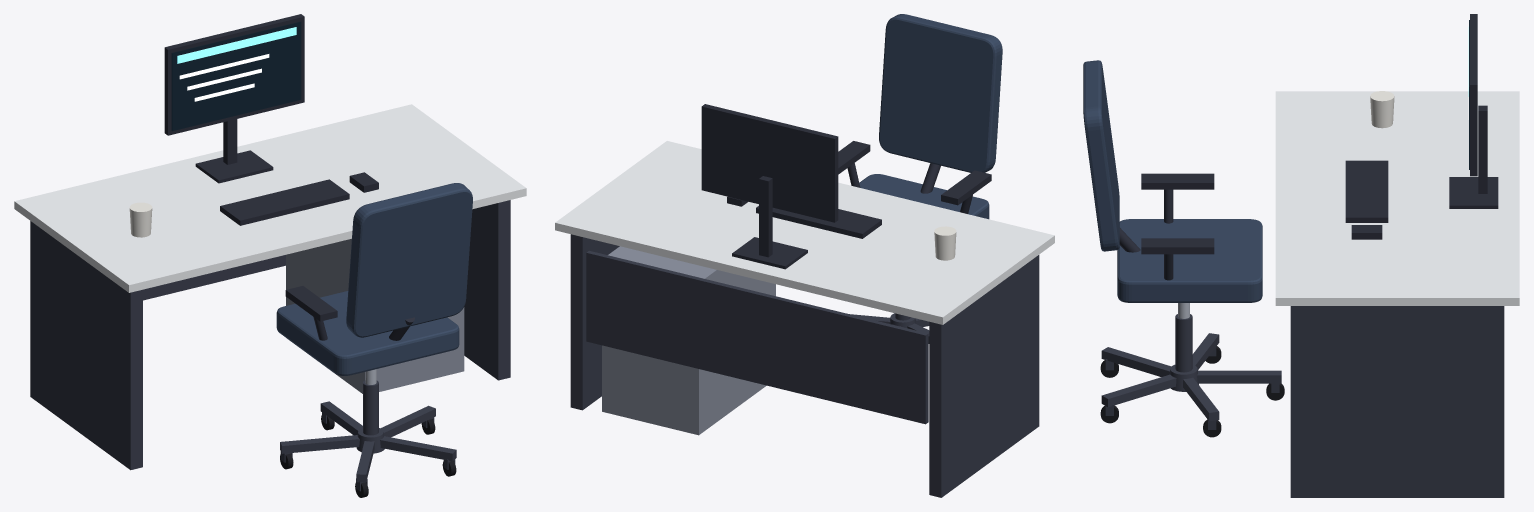
The picture shows the model from 3 angles, left to right: view 1: azimuth 30°, elevation 25°; view 2: azimuth 150°, elevation 25°; view 3: azimuth 270°, elevation 25°; orthographic projection. The views are drawn at different scales.
Parts seen in each view (by area): view 1: white, dark_steel, chair_fabric, plastic_dark, monitor_screen, locker_grey, pump_screen, display_white, rubber, ceramic_white; view 2: dark_steel, white, chair_fabric, plastic_dark, locker_grey, ceramic_white; view 3: dark_steel, white, chair_fabric, plastic_dark, rubber, ceramic_white.
Part boxes in pixels (box(x1,y1,x2,y2)): white: box(14, 104, 526, 292); dark_steel: box(30, 200, 510, 491); chair_fabric: box(276, 183, 472, 375); plastic_dark: box(164, 14, 414, 340); monitor_screen: box(171, 21, 301, 131); locker_grey: box(286, 238, 464, 393); pump_screen: box(177, 27, 296, 63); display_white: box(179, 54, 269, 101); rubber: box(280, 415, 456, 497); ceramic_white: box(129, 202, 152, 237); dark_steel: box(570, 234, 1039, 497); white: box(555, 141, 1054, 324); chair_fabric: box(859, 14, 1002, 219); plastic_dark: box(701, 104, 991, 269); locker_grey: box(602, 246, 775, 435); ceramic_white: box(934, 226, 956, 260); dark_steel: box(1101, 306, 1504, 497); white: box(1275, 91, 1519, 305); chair_fabric: box(1083, 60, 1262, 302); plastic_dark: box(1119, 14, 1498, 280); rubber: box(1100, 346, 1284, 437); ceramic_white: box(1370, 91, 1394, 128).
Bounding box in the file's own units: 1.6 × 1.26 × 1.43.
